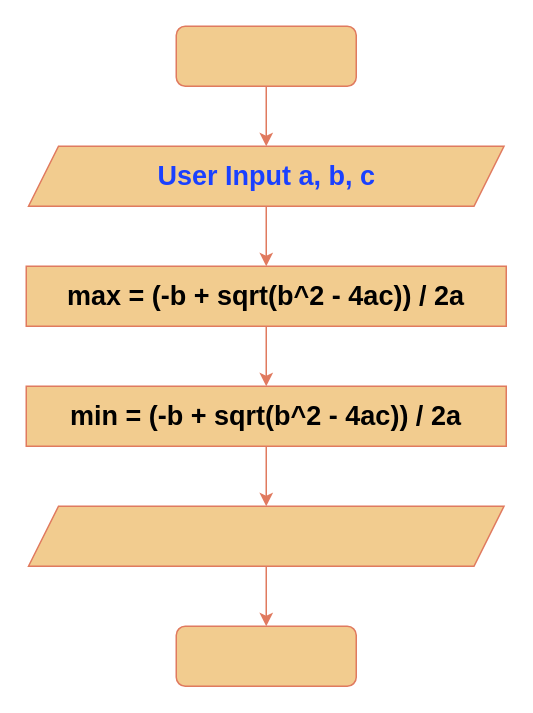
The diagram is 533 pixels wide and 713 high, and some of its shapes have lost their labels. The shapes that lost their labels are listed below. From the top down, each one's centre as x and y in pixels, then its label:
point (265, 55): Start
point (265, 535): print max, min
